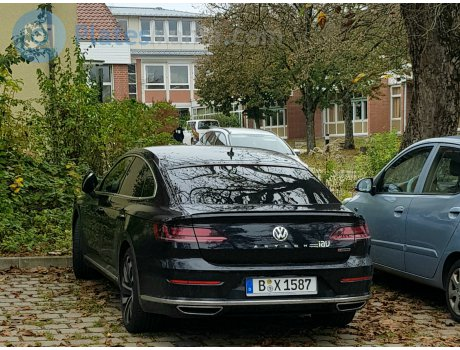License Plates: (250, 276, 316, 292)
